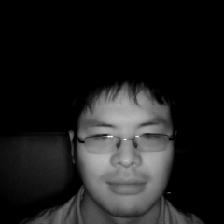happy: (69, 76, 183, 218)
